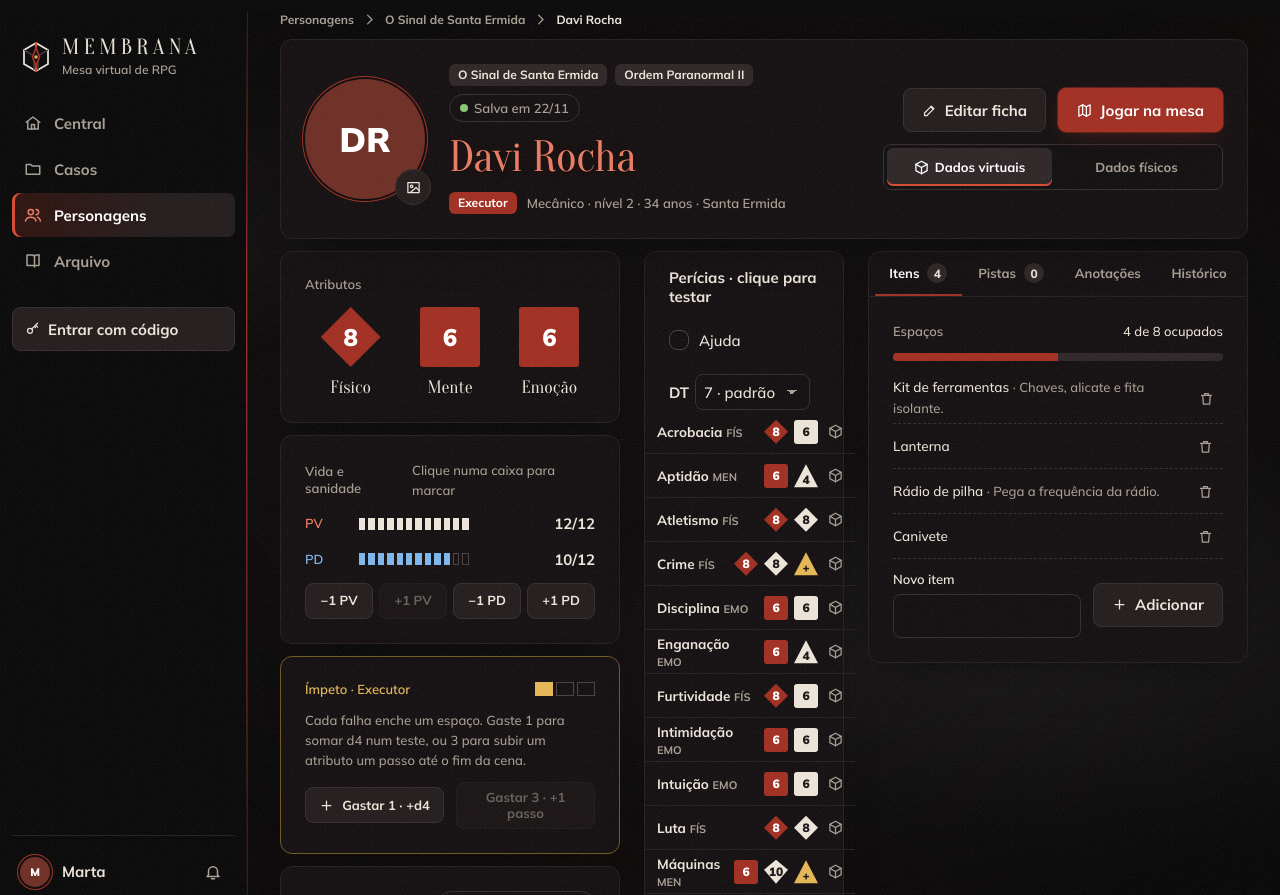
Ficha: topo, atributos, PV/PD, Ímpeto e Gambiarra (#45) › se o servidor recusar, a ficha volta ao último estado salvo e diz o motivo
Expected: the heading "Davi Rocha" is shown, [449,132,636,182]
Click the button with aria-label "Perder 1 PV" at point(339, 601), box [305,583,373,619]
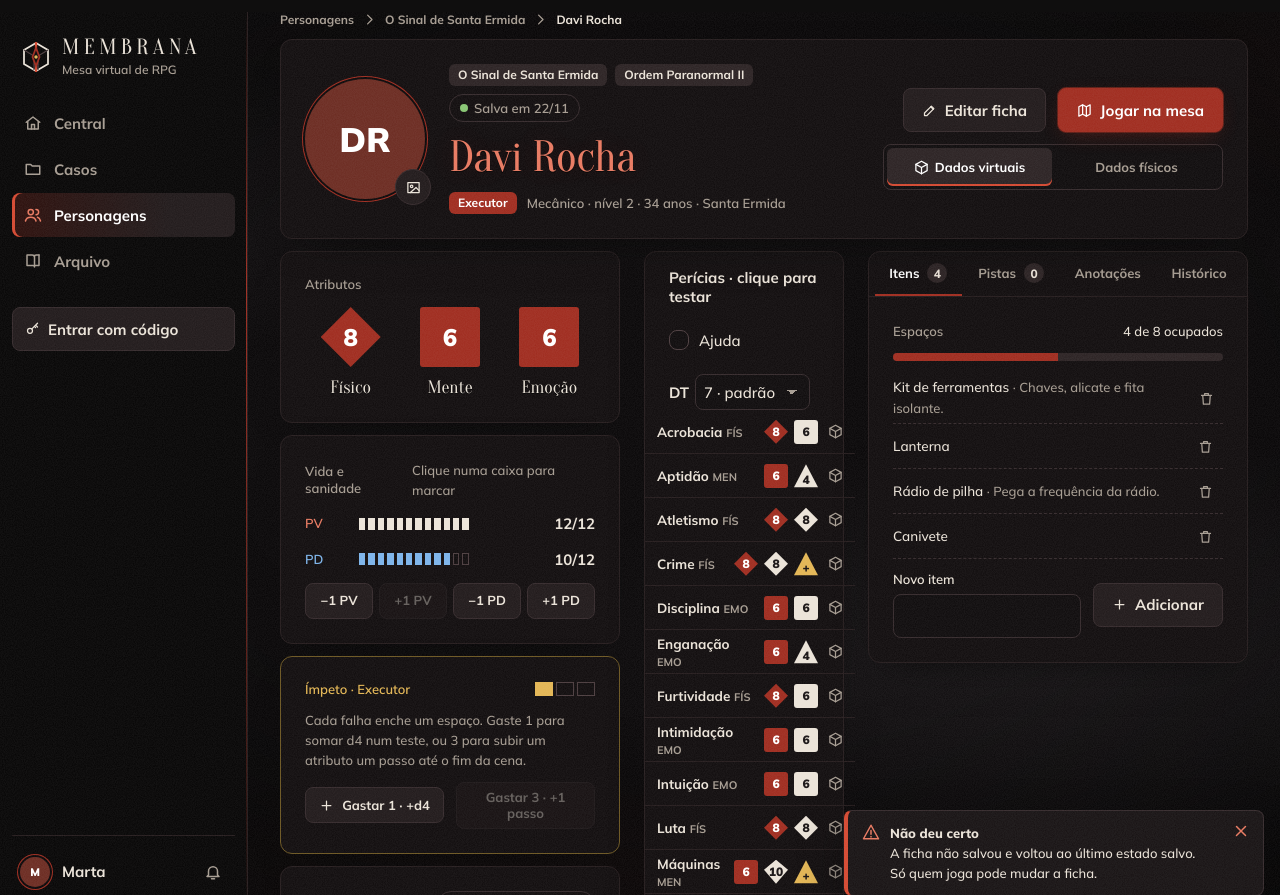
Expected: the element named "PV: 12 de 12" is shown, [359,518,469,530]
Result: the text "Só quem joga pode mudar a ficha." is shown at [890,845,1195,881]
